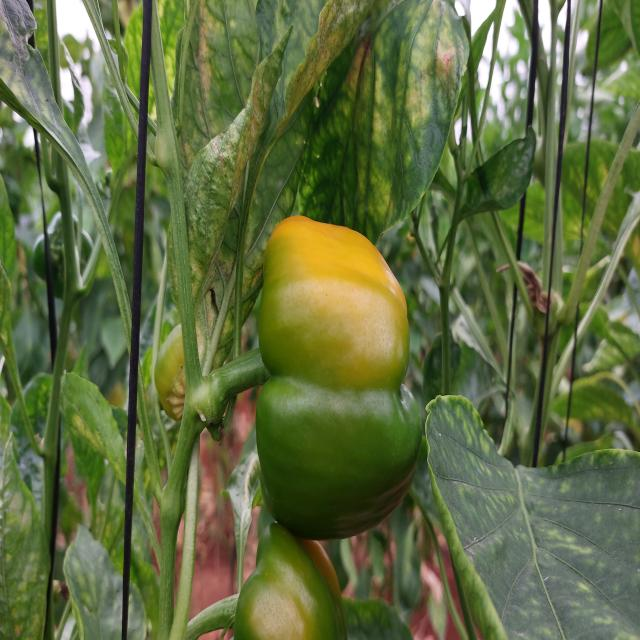GreenishYellow--Can-be-Harvested: (232, 194, 432, 536)
